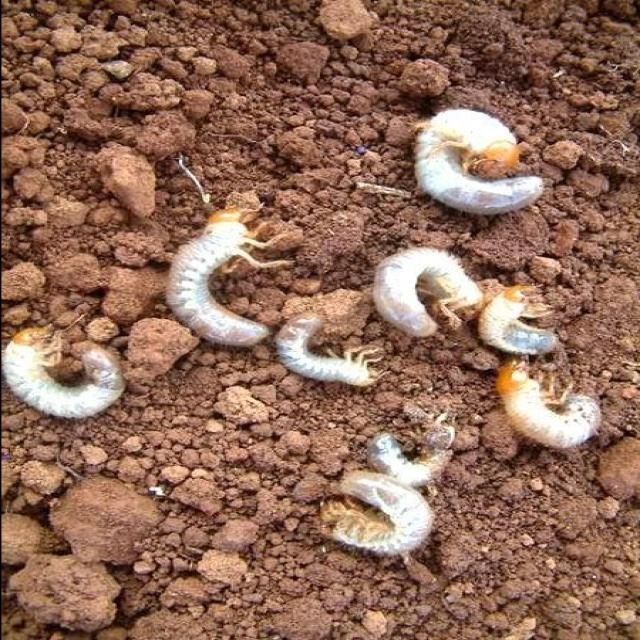grub: (367, 244, 497, 355), (168, 215, 272, 352), (410, 110, 531, 223), (8, 325, 122, 441), (485, 363, 601, 474), (311, 472, 439, 563), (272, 308, 376, 403), (487, 276, 570, 364)
